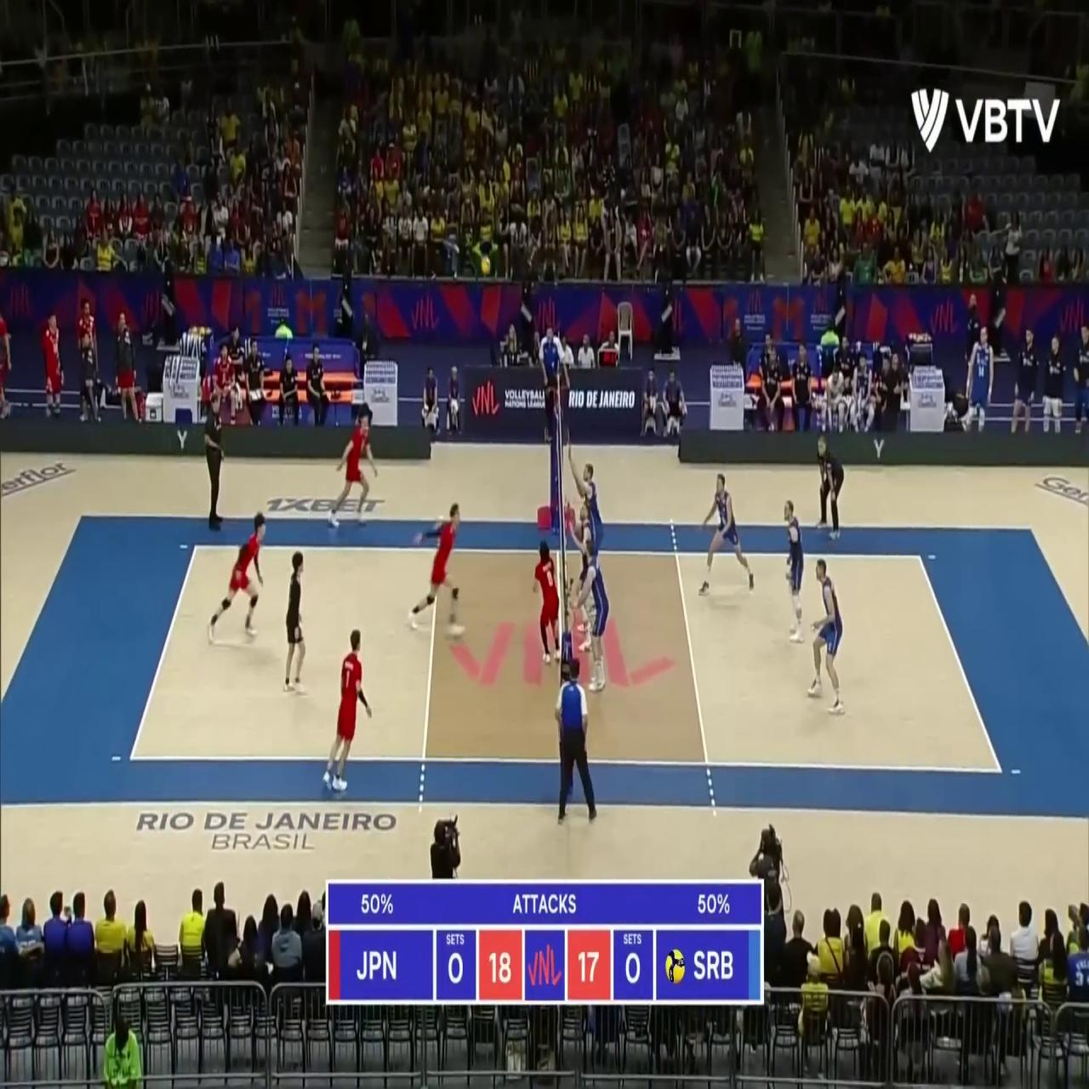ball: (481, 255, 491, 273)
